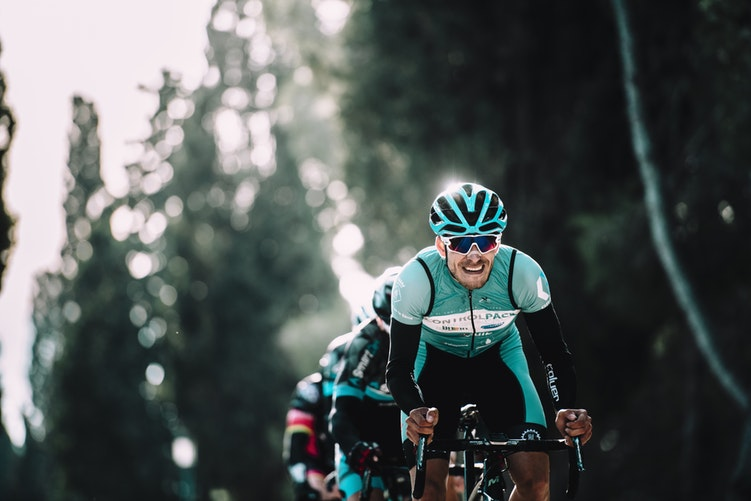helmet: (414, 184, 515, 253)
